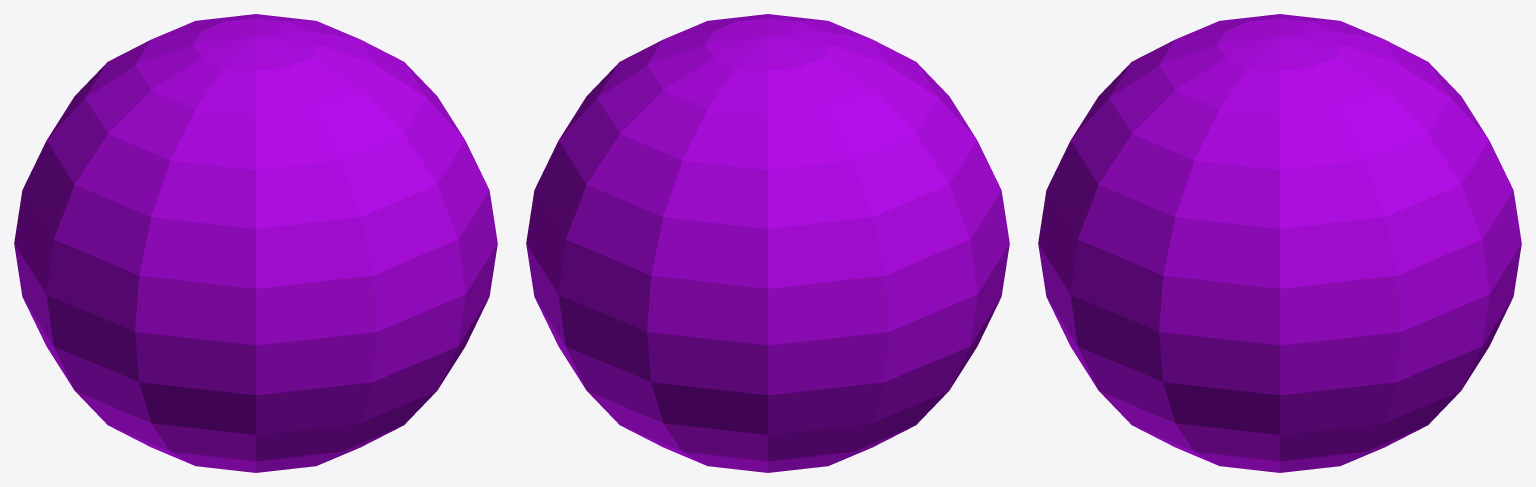
The model's file is Star.fbx.
3 views of the same model, side by side, from view 1: azimuth 30°, elevation 25°; view 2: azimuth 150°, elevation 25°; view 3: azimuth 270°, elevation 25° (orthographic).
Visible parts, largest first — view 1: Star; view 2: Star; view 3: Star.
Boxes of the visible parts, <box> form: Star: <box>14,14,497,472</box>; Star: <box>526,14,1009,472</box>; Star: <box>1038,14,1521,472</box>.
Size of the model in its own units: 5.25 by 4.94 by 5.25.
